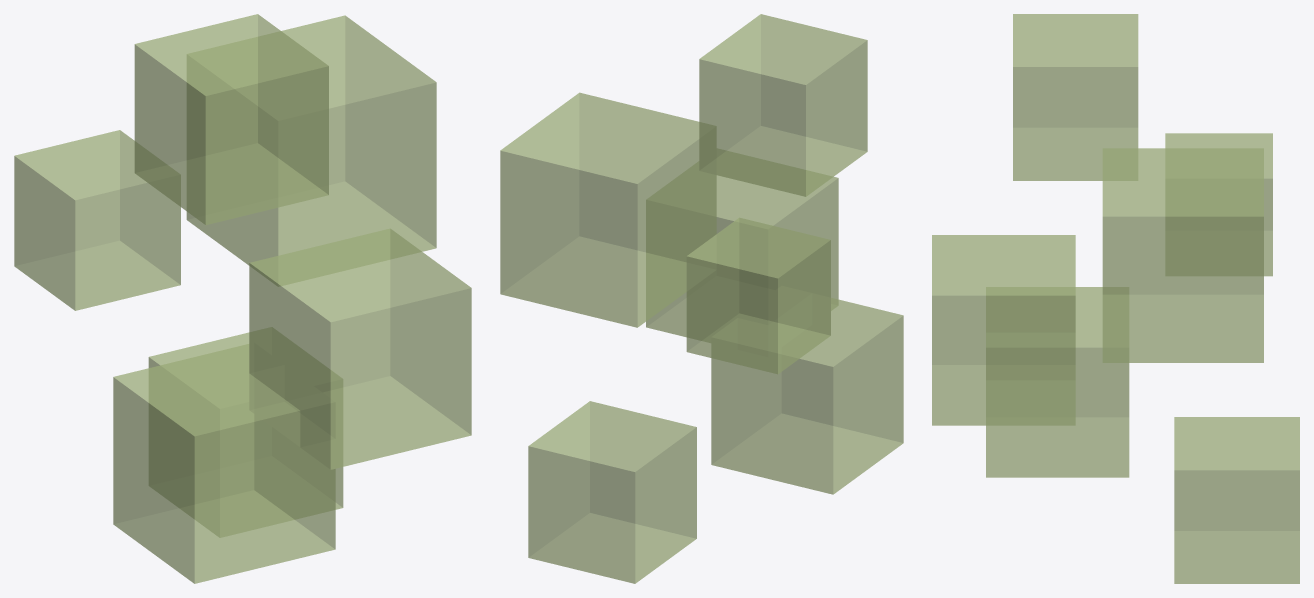
Rendered from fx_gas.glb.
3 renders of one model, left to right at view 1: azimuth 30°, elevation 25°; view 2: azimuth 150°, elevation 25°; view 3: azimuth 270°, elevation 25°, orthographic. The views are drawn at different scales.
Visible parts, largest first — view 1: fx_gas; view 2: fx_gas; view 3: fx_gas.
Part boxes in pixels (x1,y1,x2,y2): fx_gas: [14, 14, 471, 583]; fx_gas: [500, 14, 903, 583]; fx_gas: [932, 14, 1299, 583].
Size of the model in its own units: 0.925 by 1.45 by 1.03.
Materials: 1 (1 with a texture image).
